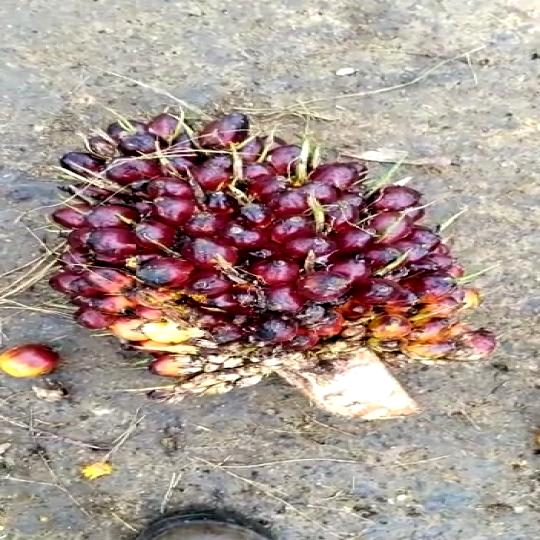kurang masak: (26, 103, 538, 442)
